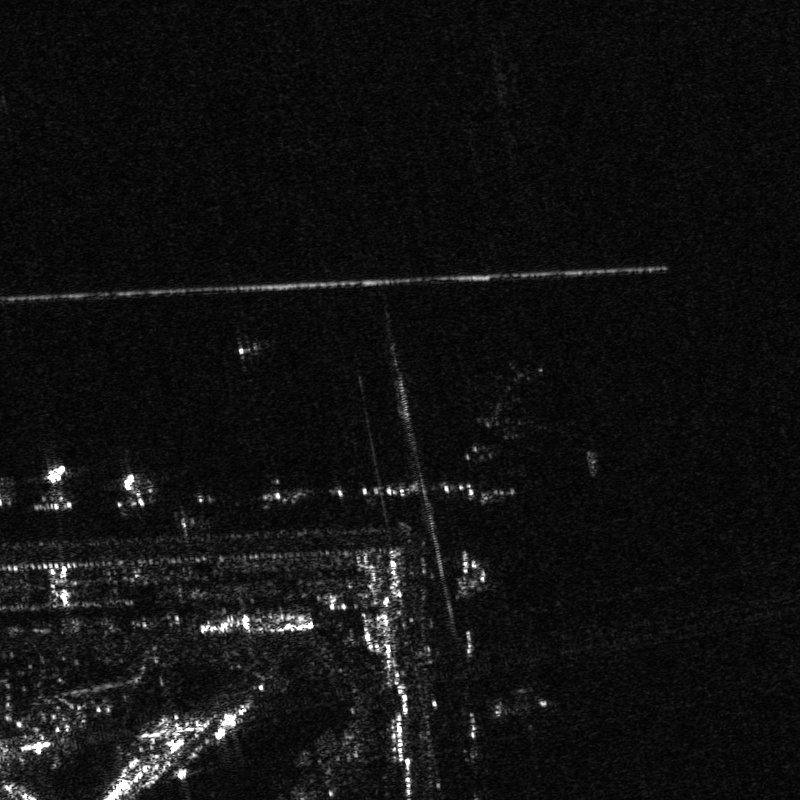A220: (485, 673, 562, 742)
A320/321: (433, 351, 565, 475)
